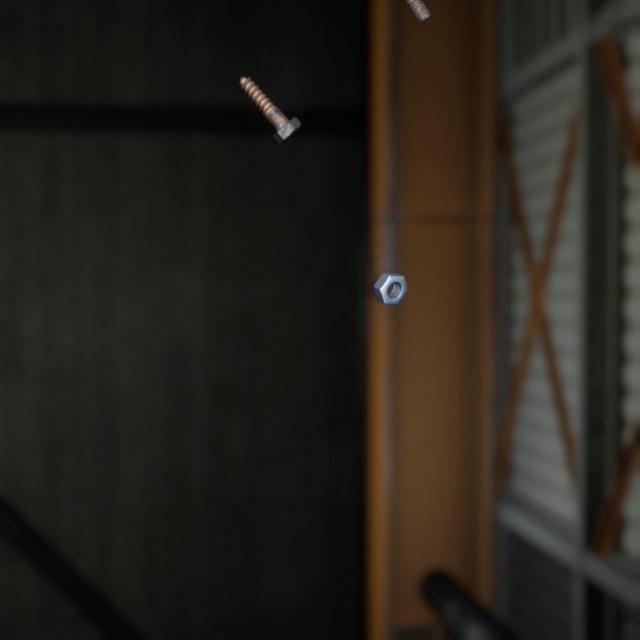bolt: (234, 60, 306, 136), (401, 0, 435, 23)
nut: (369, 251, 412, 292)
